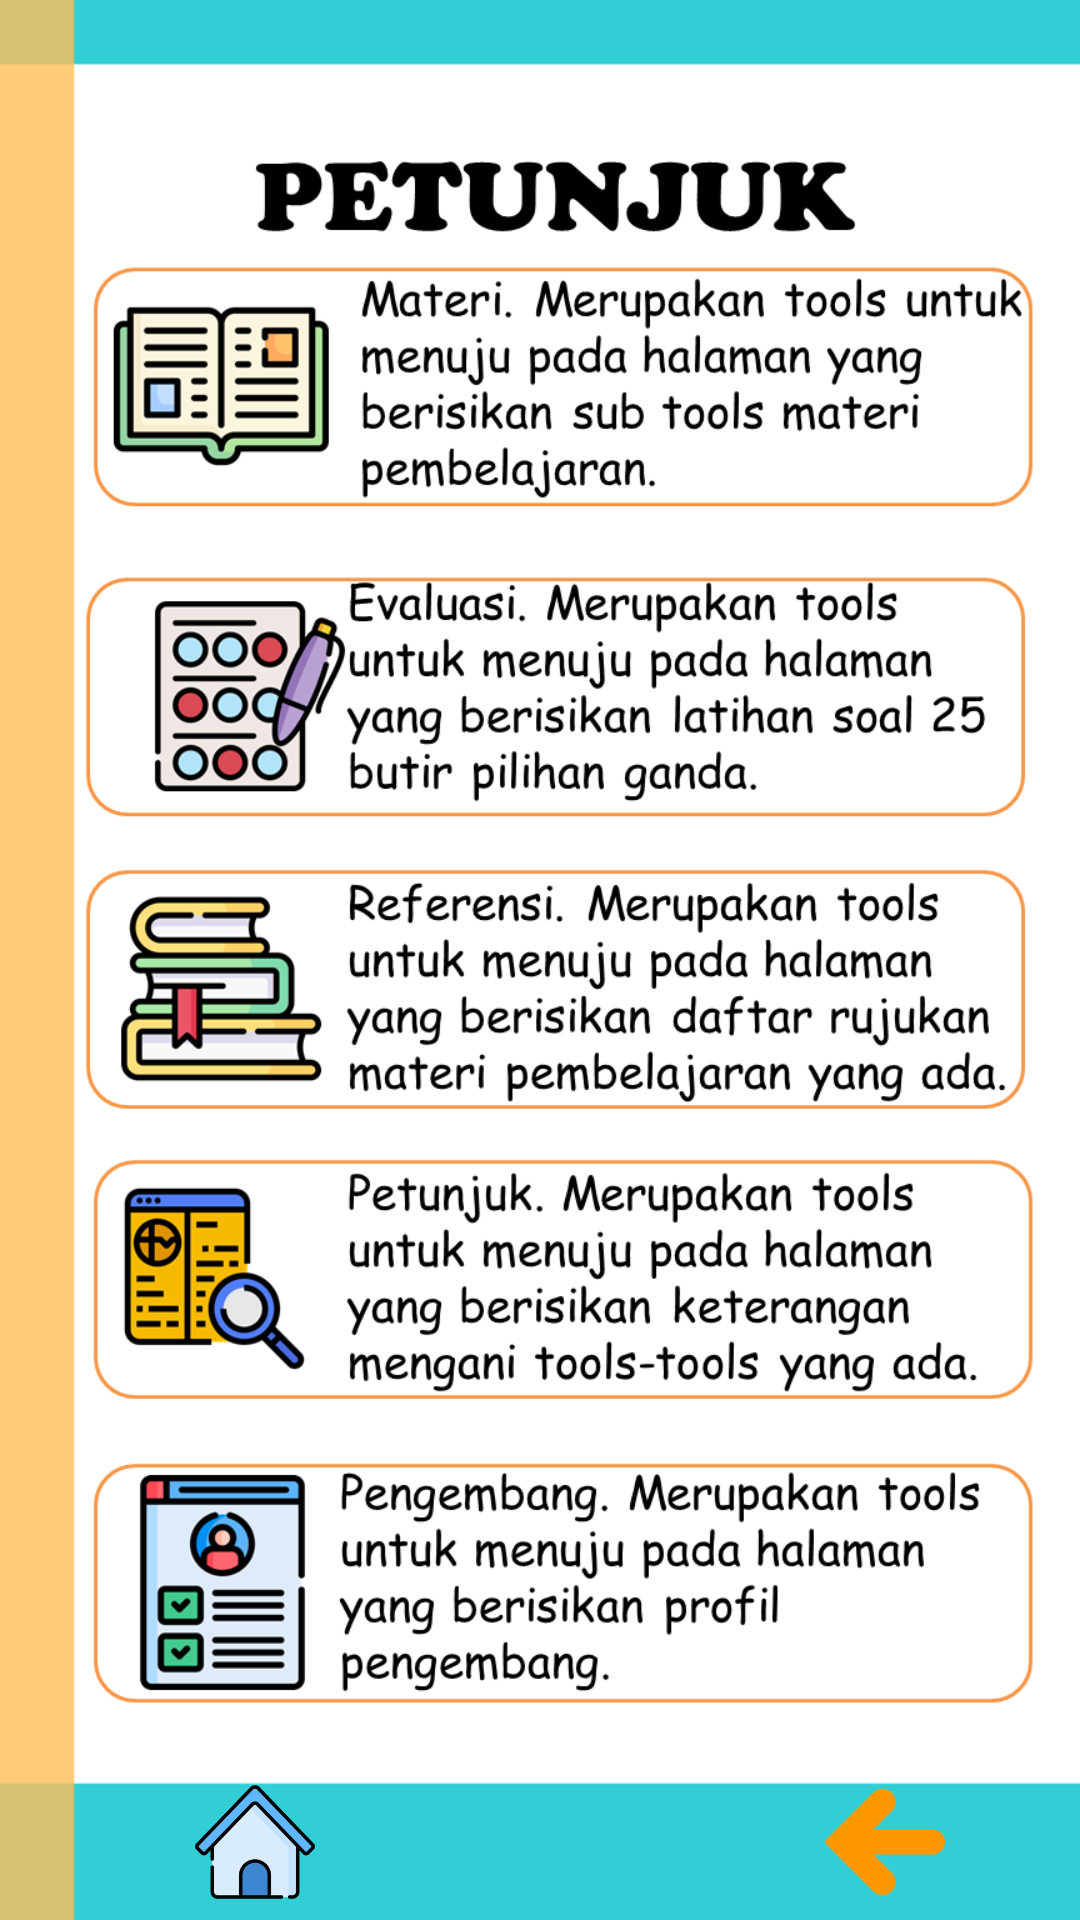

Icons on this 1080px x 1920px Android screen, each with its box as bbox=[x1, y1, x2, y2]:
home: bbox=[195, 1785, 315, 1899]
prev: bbox=[825, 1788, 945, 1896]
